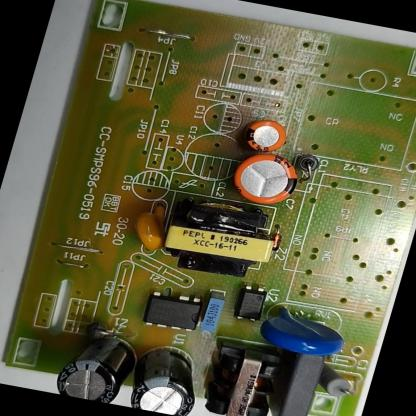Cap1: (226, 146, 305, 210)
Cap2: (240, 116, 292, 158)
Cap3: (126, 340, 212, 416)
Cap4: (51, 327, 144, 406)
MOSFET: (138, 287, 209, 339)
Mov: (256, 302, 354, 362)
Resistor: (315, 363, 361, 407)
Transformer: (155, 191, 288, 285), (196, 334, 294, 416)
